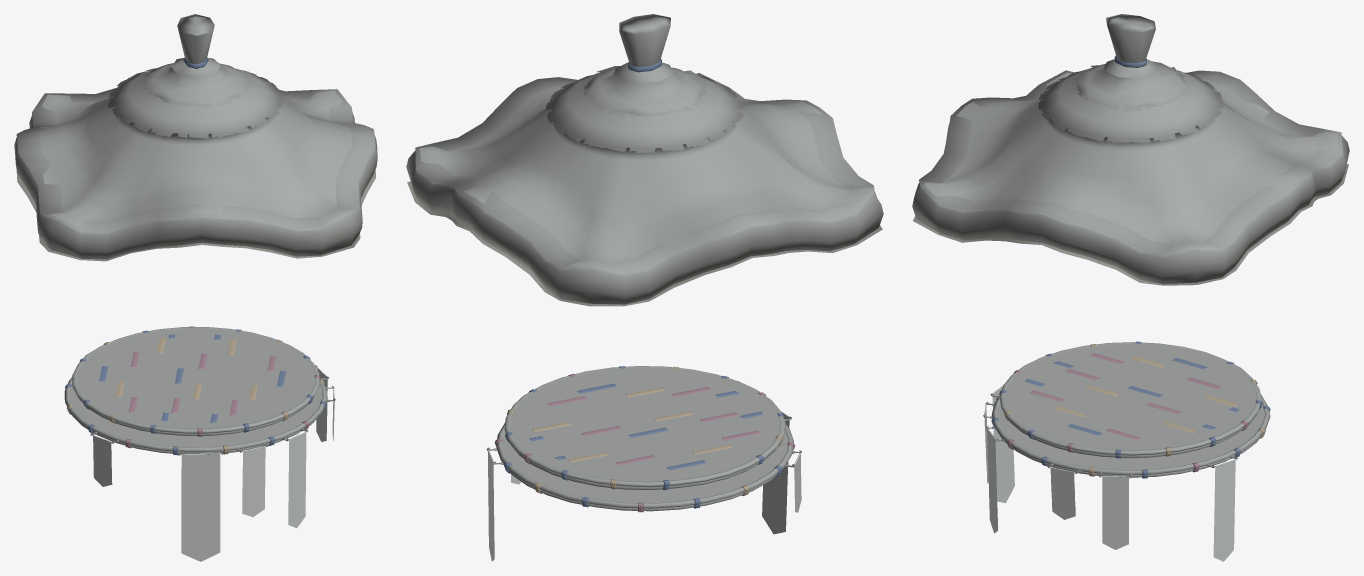
The picture shows the model from 3 angles, left to right: view 1: azimuth 30°, elevation 25°; view 2: azimuth 150°, elevation 25°; view 3: azimuth 270°, elevation 25°; orthographic projection. The views are drawn at different scales.
Parts seen in each view (by area): view 1: G:\FFXIV-MapTools\exports\y6f2\bg\ex5\02_ykt_y6\fld\y6f2\bgp (×7); view 2: G:\FFXIV-MapTools\exports\y6f2\bg\ex5\02_ykt_y6\fld\y6f2\bgp (×7); view 3: G:\FFXIV-MapTools\exports\y6f2\bg\ex5\02_ykt_y6\fld\y6f2\bgp (×7).
Part boxes in pixels (left/top/right/bottom): G:\FFXIV-MapTools\exports\y6f2\bg\ex5\02_ykt_y6\fld\y6f2\bgp (×7): left=14, top=14, right=377, bottom=561; G:\FFXIV-MapTools\exports\y6f2\bg\ex5\02_ykt_y6\fld\y6f2\bgp (×7): left=406, top=14, right=883, bottom=561; G:\FFXIV-MapTools\exports\y6f2\bg\ex5\02_ykt_y6\fld\y6f2\bgp (×7): left=912, top=14, right=1349, bottom=561.
Size of the model in its own units: 58.89 by 75.38 by 58.86.
